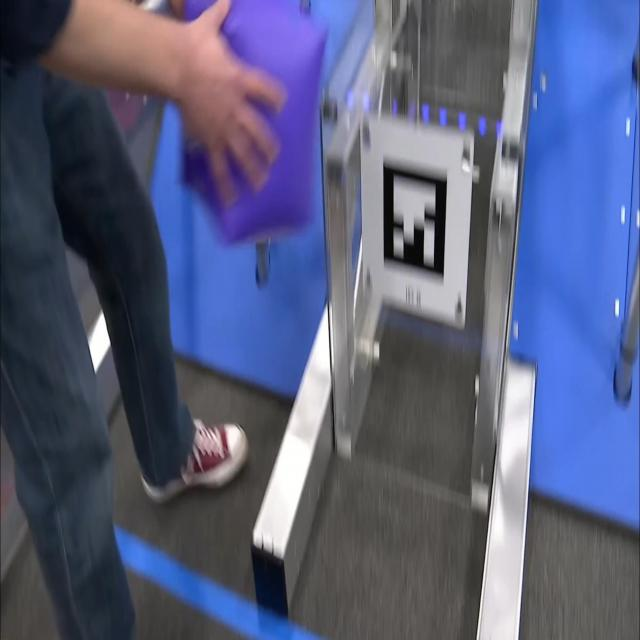frc_cube: (175, 0, 322, 234)
